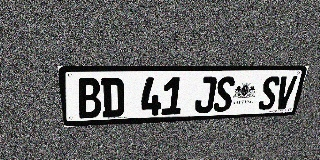1: (161, 77, 184, 115)
4: (140, 77, 163, 116)
B: (76, 78, 102, 119)
D: (101, 78, 124, 118)
J: (194, 77, 217, 113)
S: (257, 76, 281, 110), (213, 77, 236, 112)
V: (274, 76, 298, 109)
